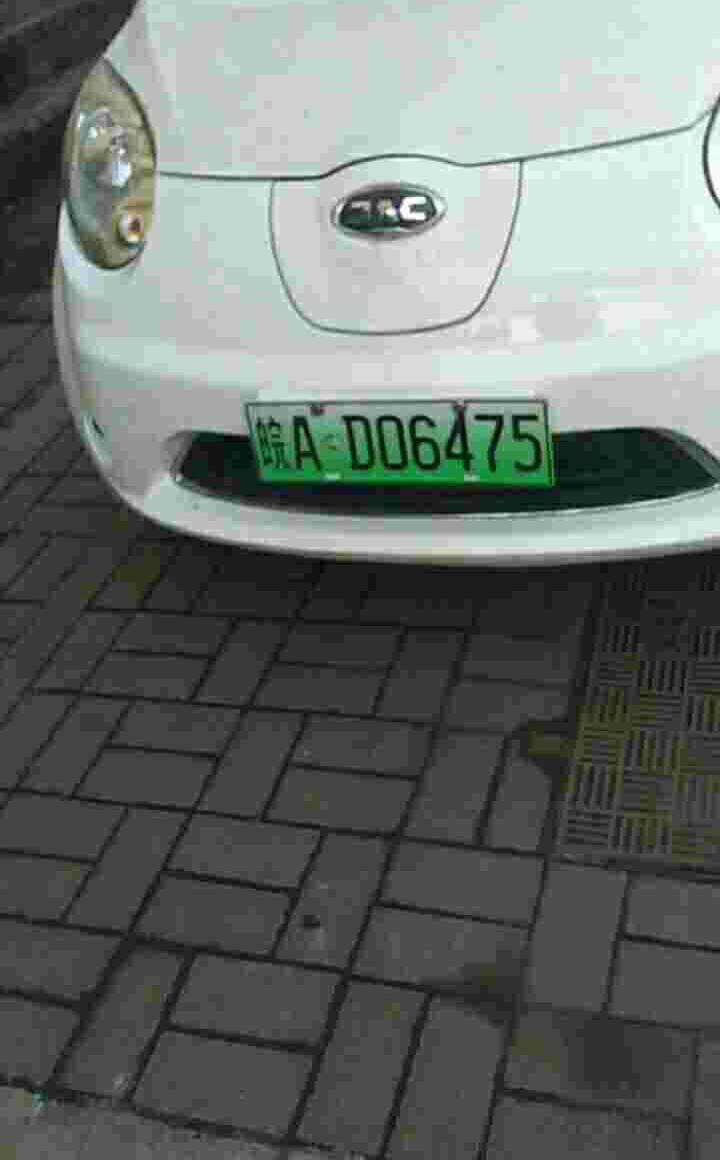car_id: (244, 402, 550, 482)
